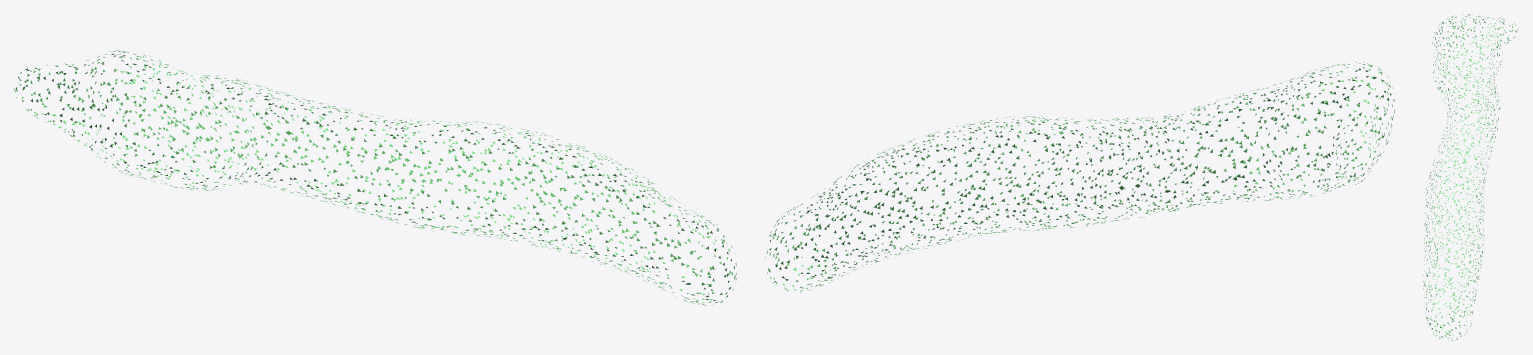
File: morph_018.glb
3 views of the same model, side by side, from view 1: azimuth 30°, elevation 25°; view 2: azimuth 150°, elevation 25°; view 3: azimuth 270°, elevation 25° (orthographic). The views are drawn at different scales.
Bounding box in the file's own units: 132 × 72.08 × 33.65.
